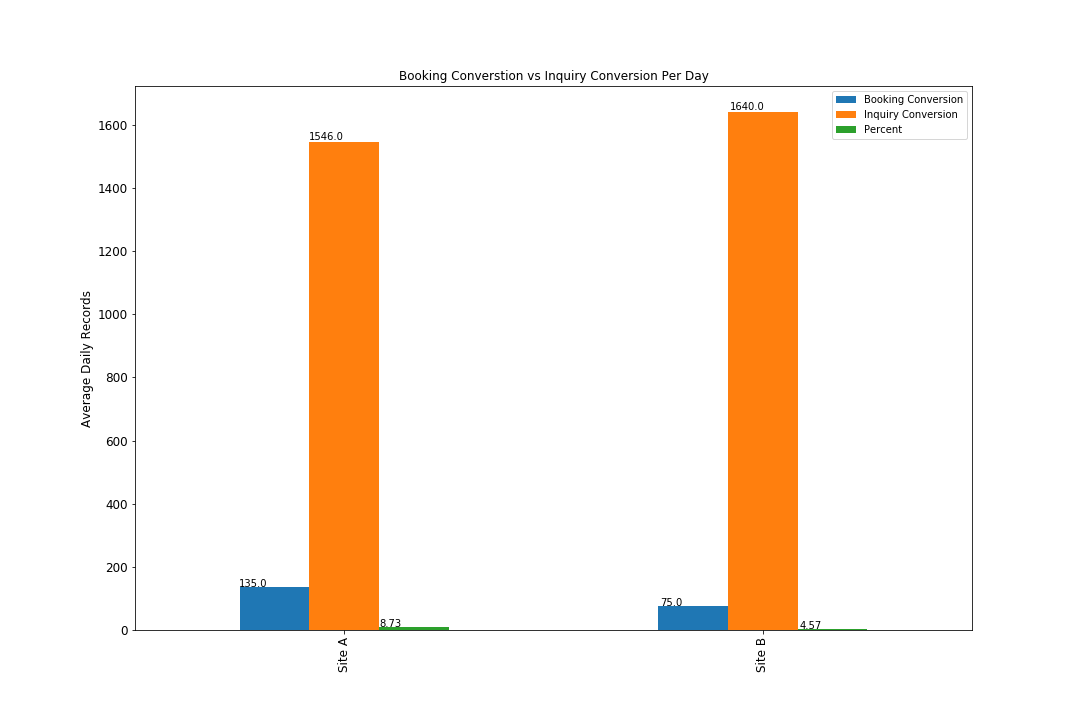

This screenshot's page, from the dashboard's own definition file:
{"tool":"tableau","page":{"name":"BarChart","canvas":[1000,800],"ordinal":1},"visuals":[{"type":"filter","title":"All-Viz-1","param":"[federated.0fqd9971pobdc41fchzsx0ctk5mb].[none:Site:nk]","box":[8,8,143,75]},{"type":"filter","title":"All-Viz-1","param":"[federated.0fqd9971pobdc41fchzsx0ctk5mb].[none:Year of Date Id:nk]","box":[151,8,182,75]},{"type":"filter","title":"All-Viz-1","param":"[federated.0fqd9971pobdc41fchzsx0ctk5mb].[none:Measure Names:nk]","box":[333,8,353,75]},{"type":"filter","title":"All-Viz-1","param":"[federated.0fqd9971pobdc41fchzsx0ctk5mb].[none:Supplier Type:nk]","box":[686,8,146,75]},{"type":"filter","title":"All-Viz-1","param":"[federated.0fqd9971pobdc41fchzsx0ctk5mb].[none:Person Type:nk]","box":[832,8,160,75]},{"type":"worksheet","title":"All-Viz-1","mark":"Automatic","rows":["Measure Names","Person Type","Site","Supplier Type"],"cols":["Measure Values"],"box":[8,83,984,709]}]}

Visuals, with their boxes on the page's 1000x800 design canvas (x1, y1, x2, y2). These are canvas units, not pixel positions in the 1080x720 screenshot, which may show the page scaled, cropped or inside an application window:
"All-Viz-1" filter: BBox(8, 8, 151, 83)
"All-Viz-1" filter: BBox(151, 8, 333, 83)
"All-Viz-1" filter: BBox(333, 8, 686, 83)
"All-Viz-1" filter: BBox(686, 8, 832, 83)
"All-Viz-1" filter: BBox(832, 8, 992, 83)
"All-Viz-1" worksheet: BBox(8, 83, 992, 792)
